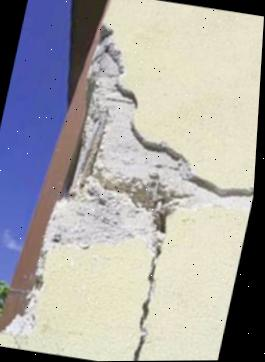spalling: (45, 29, 254, 251)
